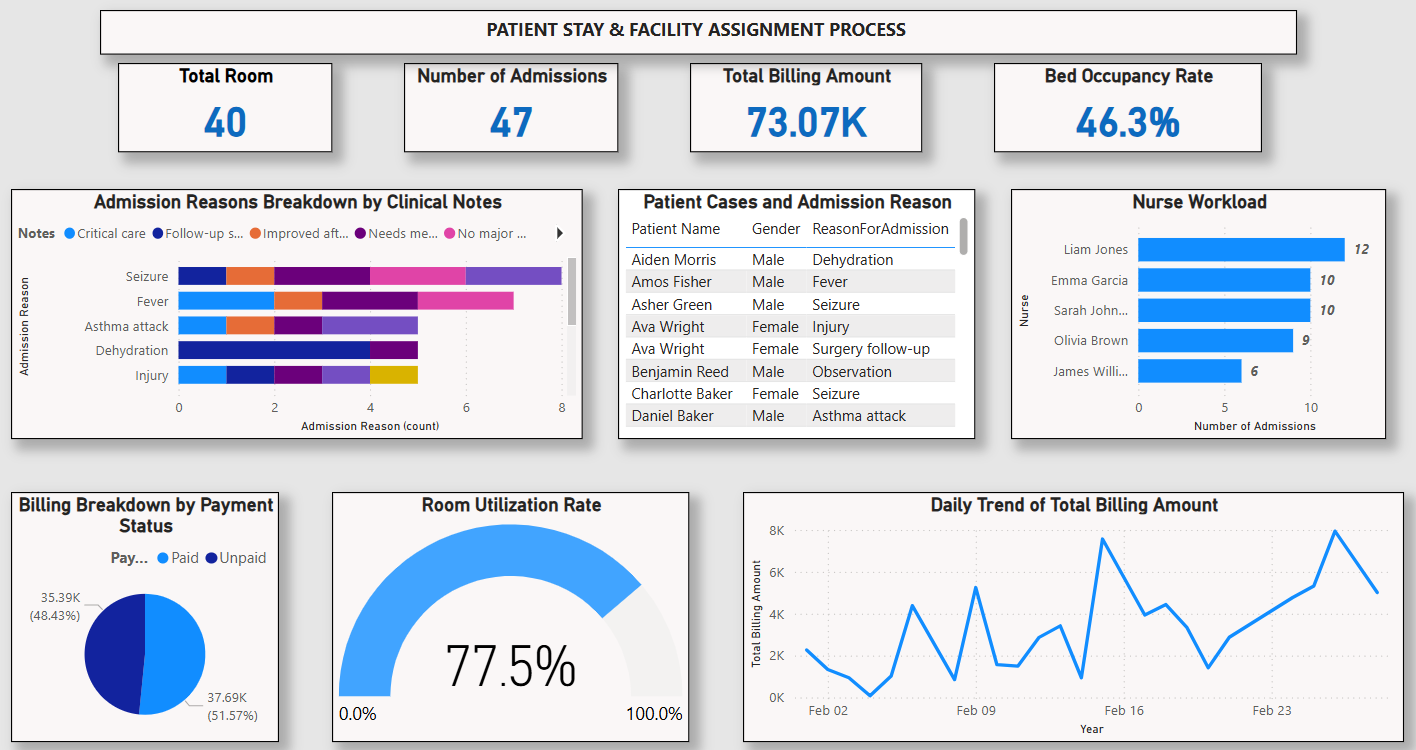

The dashboard page shown, as its layout file describes it:
{"tool":"powerbi","page":{"name":"BP_4_PatientStayandFacilityAssignmnetProcess","canvas":[1280,720],"ordinal":6},"visuals":[{"type":"card","title":"Number of Admissions","fields":{"Values":["Calculated Measures.Number of Admissions"]},"box":[368,64,192,80],"z":0},{"type":"card","title":"Total Billing Amount","fields":{"Values":["Calculated Measures.Total Billing Amount"]},"box":[624,64,208,80],"z":1000},{"type":"lineChart","title":"Daily Trend of Total Billing Amount","fields":{"Y":["Calculated Measures.Total Billing Amount"],"Category":["DIM_Date.Date.Variation.Date Hierarchy.Year","DIM_Date.Date.Variation.Date Hierarchy.Month","DIM_Date.Date.Variation.Date Hierarchy.Day"]},"box":[672,448,592,224],"z":2000},{"type":"tableEx","title":"Patient Cases and Admission Reason","fields":{"Values":["DIM_Patient.Patient Full Name","DIM_Patient.Gender","FACT_ADMISSION.ReasonForAdmission"]},"box":[560,176,320,224],"z":3000},{"type":"textbox","box":[96,16,1072,40],"z":4000},{"type":"barChart","title":"Admission Reasons Breakdown by Clinical Notes","fields":{"Category":["FACT_ADMISSION.ReasonForAdmission"],"Series":["FACT_ADMISSION.Notes"],"Y":["Calculated Measures.CountOfReasonForAdmission"]},"box":[16,176,512,224],"z":5000},{"type":"card","title":"Total Room","fields":{"Values":["Count(DIM_Room.RoomID)"]},"box":[112,64,192,80],"z":6000},{"type":"gauge","title":"Room Utilization Rate","fields":{"Y":["Calculated Measures.Room Utilization (%)"]},"box":[304,448,320,224],"z":7000},{"type":"pieChart","title":"Billing Breakdown by Payment Status","fields":{"Category":["Fact_Billing.PaymentStatus"],"Y":["Sum(Fact_Billing.TotalAmount)"]},"box":[16,448,240,224],"z":8000},{"type":"barChart","title":"Nurse Workload","fields":{"Category":["DIM_Nurse.Nurse Full Name"],"Y":["Calculated Measures.Number of Admissions"]},"box":[912,176,336,224],"z":9000},{"type":"card","title":"Bed Occupancy Rate ","fields":{"Values":["Calculated Measures.Bed Occupancy Rate"]},"box":[896,64,240,80],"z":10000}]}

Visuals, with their boxes on the page's 1280x720 design canvas (x1, y1, x2, y2). These are canvas units, not pixel positions in the 1416x750 screenshot, which may show the page scaled, cropped or inside an application window:
"Number of Admissions" card: detection(368, 64, 560, 144)
"Total Billing Amount" card: detection(624, 64, 832, 144)
"Daily Trend of Total Billing Amount" lineChart: detection(672, 448, 1264, 672)
"Patient Cases and Admission Reason" tableEx: detection(560, 176, 880, 400)
textbox: detection(96, 16, 1168, 56)
"Admission Reasons Breakdown by Clinical Notes" barChart: detection(16, 176, 528, 400)
"Total Room" card: detection(112, 64, 304, 144)
"Room Utilization Rate" gauge: detection(304, 448, 624, 672)
"Billing Breakdown by Payment Status" pieChart: detection(16, 448, 256, 672)
"Nurse Workload" barChart: detection(912, 176, 1248, 400)
"Bed Occupancy Rate " card: detection(896, 64, 1136, 144)
